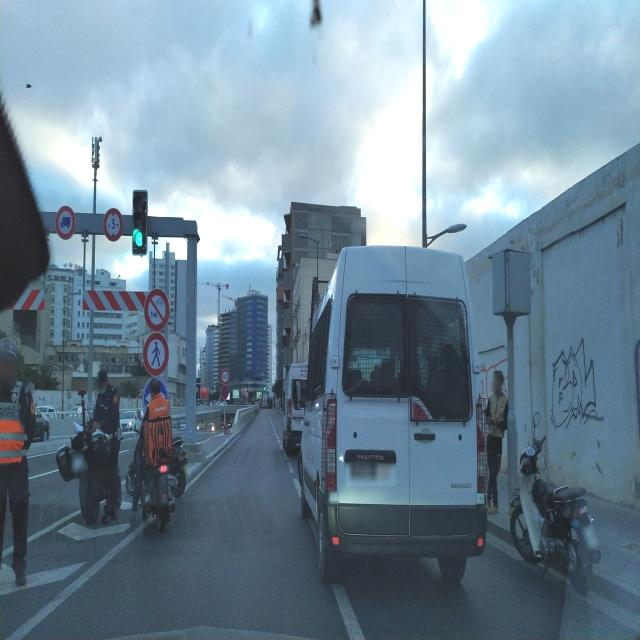bike: (509, 436, 598, 596), (76, 416, 126, 520), (127, 432, 176, 535), (125, 432, 187, 496)
car: (298, 243, 489, 590), (283, 361, 309, 455), (267, 398, 273, 410), (261, 402, 266, 409)
